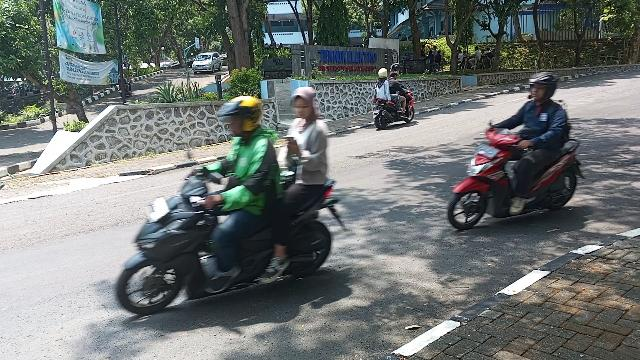helm: (218, 97, 264, 138), (529, 73, 559, 101), (380, 70, 389, 79)
motor: (118, 173, 349, 316), (450, 129, 587, 232), (374, 98, 416, 130)
non-helm: (293, 87, 319, 119), (391, 73, 399, 81)
